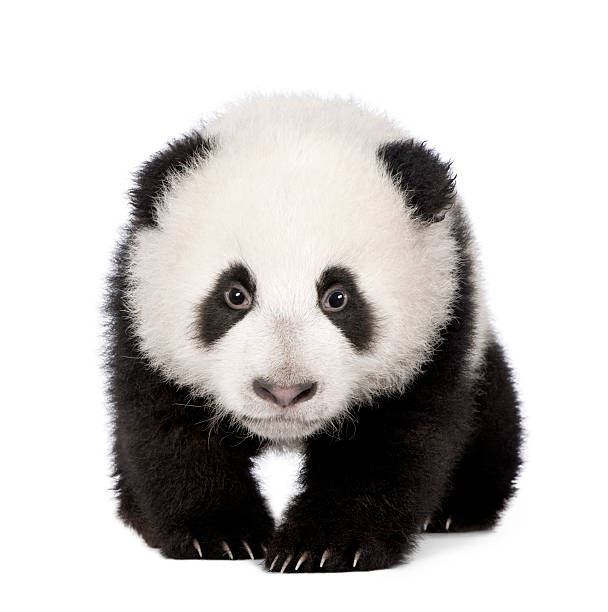panda: (101, 115, 497, 477)
